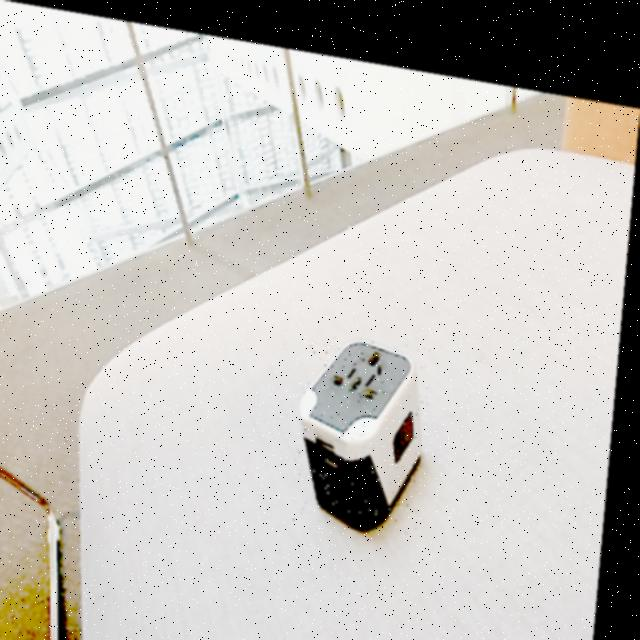adapter: (299, 317, 438, 525)
